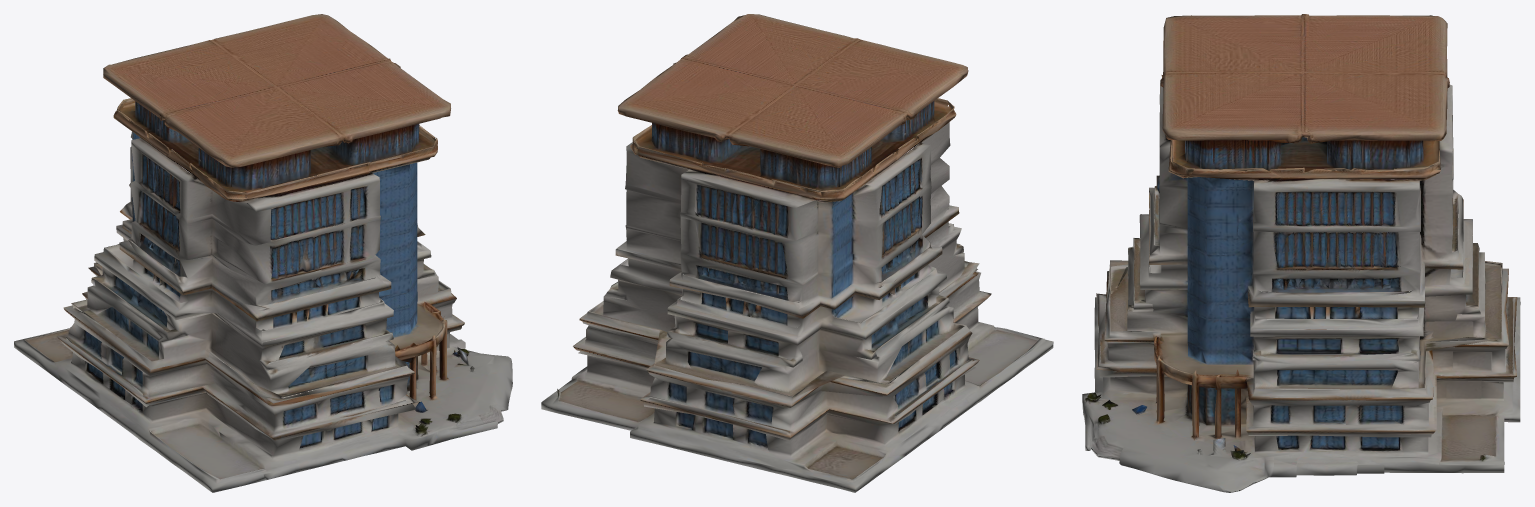
The model's file is VentureHall_Higgsfield_Raw.glb.
3 views of the same model, side by side, from view 1: azimuth 30°, elevation 25°; view 2: azimuth 150°, elevation 25°; view 3: azimuth 270°, elevation 25° (orthographic). The views are drawn at different scales.
Visible parts, largest first — view 1: tripo_node_a4279902-4086-45ef-8404-8182c2bb2da9; view 2: tripo_node_a4279902-4086-45ef-8404-8182c2bb2da9; view 3: tripo_node_a4279902-4086-45ef-8404-8182c2bb2da9.
Part boxes in pixels (x1=…): tripo_node_a4279902-4086-45ef-8404-8182c2bb2da9: x1=14, y1=14, x2=512, y2=492; tripo_node_a4279902-4086-45ef-8404-8182c2bb2da9: x1=541, y1=14, x2=1053, y2=492; tripo_node_a4279902-4086-45ef-8404-8182c2bb2da9: x1=1082, y1=14, x2=1520, y2=492.
Size of the model in its own units: 1 by 0.7824 by 0.98.
Materials: 1 (1 with a texture image).
